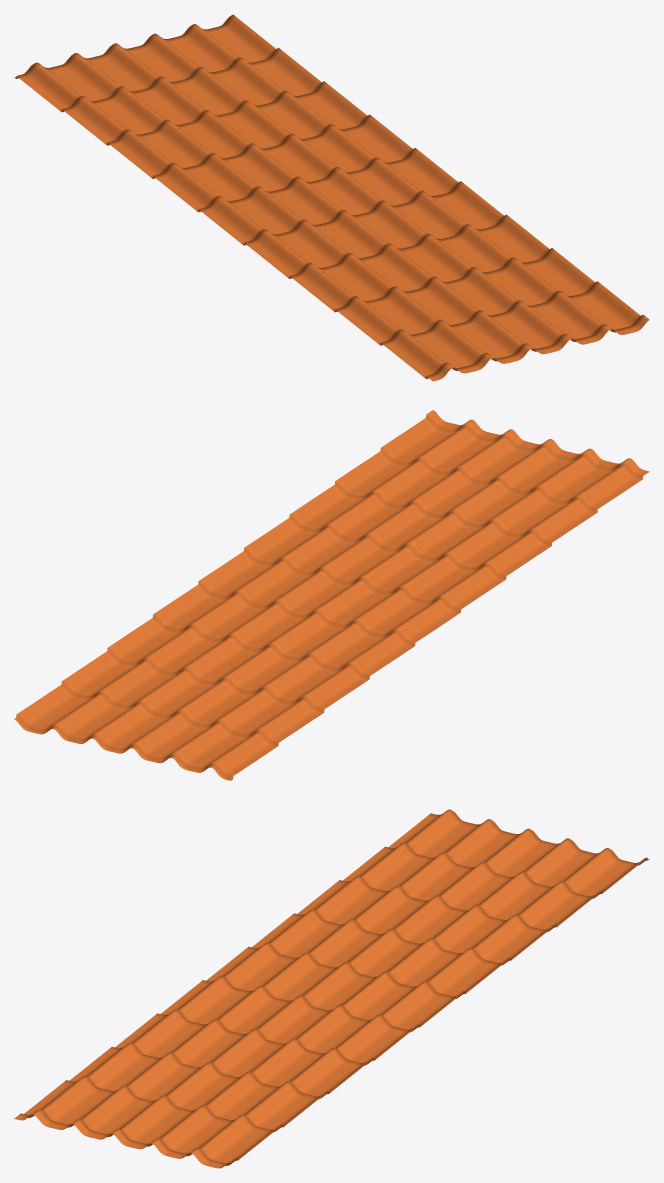
Rendered from Hermosa_Tile.glb.
3 views of the same model, one above another, from view 1: azimuth 30°, elevation 25°; view 2: azimuth 150°, elevation 25°; view 3: azimuth 330°, elevation 25° (orthographic).
Parts seen in each view (by area): view 1: Hermosa_Tile; view 2: Hermosa_Tile; view 3: Hermosa_Tile.
Boxes of the visible parts, bbox=[...] form: Hermosa_Tile: bbox=[14, 14, 649, 381]; Hermosa_Tile: bbox=[14, 410, 649, 780]; Hermosa_Tile: bbox=[14, 809, 649, 1168].
Size of the model in its own units: 1.1 by 0.057 by 3.68.
